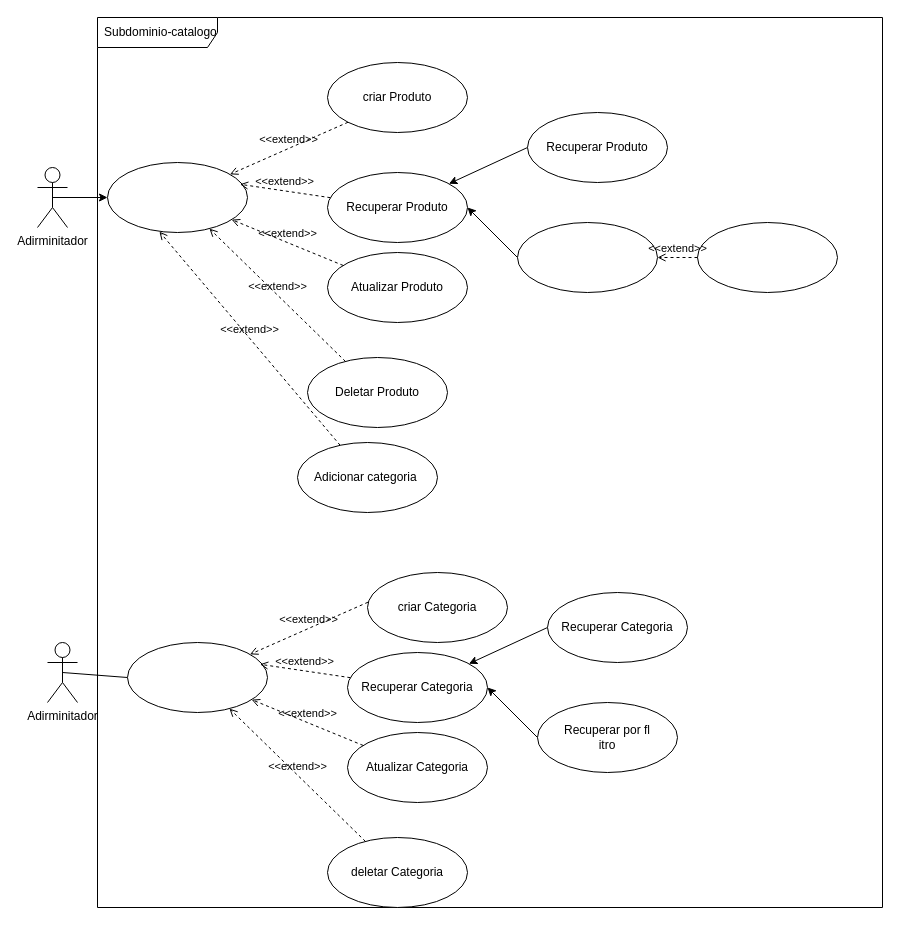
Some shapes in this 900 by 925 pixel diagram are drawn without their labels. Each missing label, with the centre of its shape:
Gerenciar Categoria: [197,677]
Gerenciar Produto: [177,197]
Recuperar por categoria: [767,257]
Recuperar por flitro: [587,257]
